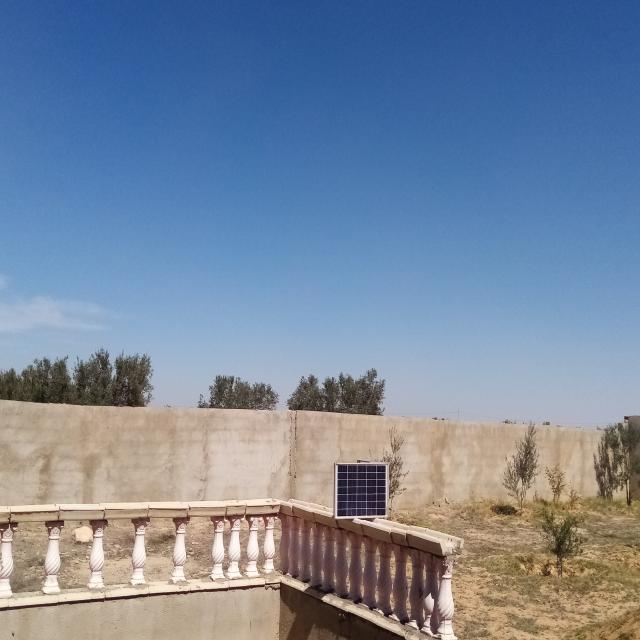no faulty: (334, 463, 389, 519)
